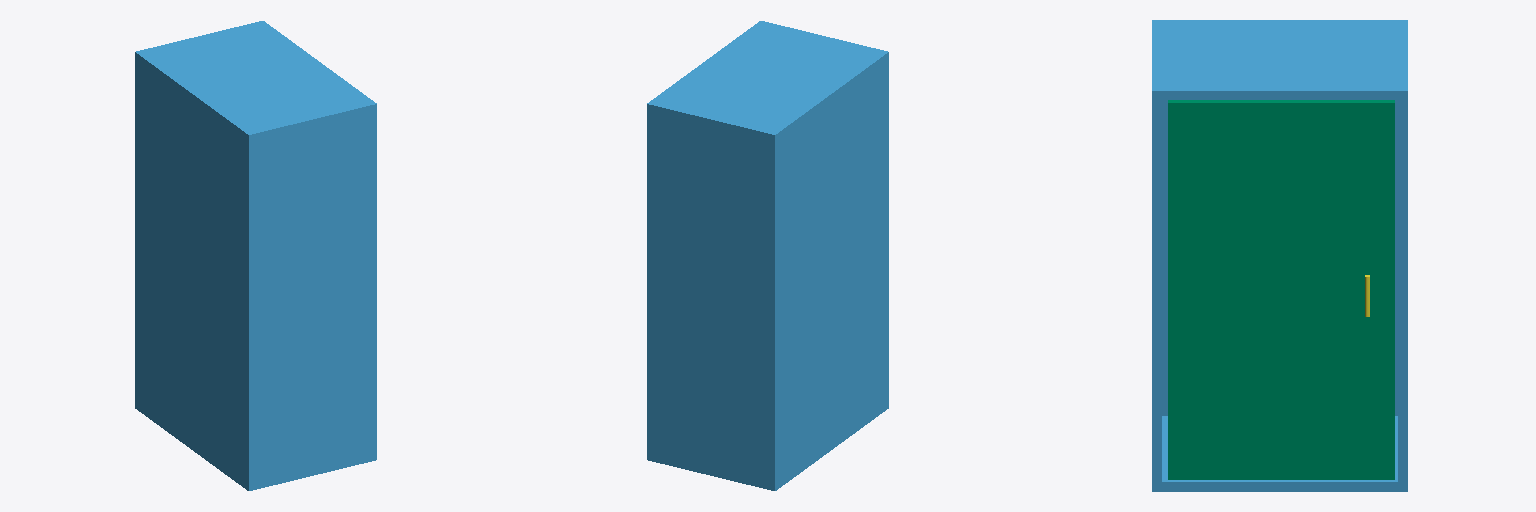
URDF robot description (my_cabinet):
<?xml version="1.0" ?>
<robot name="my_cabinet">
	<link name="world"/>
	<joint name="virtual_joint" type="fixed">
		<parent link="world"/>
		<child link="base_cabinet_link"/>
		<origin xyz="0.0 0.0 0.0" rpy="0.0 0.0 0.0"/>
	</joint>
	<link name="base_cabinet_link">
		<visual>
			<origin xyz="0.0 -0.0025 -0.3887199318023201" rpy="0.0 0.0 0.0"/>
			<geometry>
				<box size="0.3 0.46087347398093087 0.018"/>
			</geometry>
		</visual>
		<collision name="base_cabinet_link_collision_0">
			<origin xyz="0.0 -0.0025 -0.3887199318023201" rpy="0.0 0.0 0.0"/>
			<geometry>
				<box size="0.3 0.46087347398093087 0.018"/>
			</geometry>
		</collision>
		<visual>
			<origin xyz="0.0 0.21893673699046545 0.0" rpy="0.0 0.0 0.0"/>
			<geometry>
				<box size="0.3 0.018 0.7954398636046403"/>
			</geometry>
		</visual>
		<collision name="base_cabinet_link_collision_1">
			<origin xyz="0.0 0.21893673699046545 0.0" rpy="0.0 0.0 0.0"/>
			<geometry>
				<box size="0.3 0.018 0.7954398636046403"/>
			</geometry>
		</collision>
		<visual>
			<origin xyz="0.0 -0.22393673699046546 0.0" rpy="0.0 0.0 0.0"/>
			<geometry>
				<box size="0.3 0.018 0.7954398636046403"/>
			</geometry>
		</visual>
		<collision name="base_cabinet_link_collision_2">
			<origin xyz="0.0 -0.22393673699046546 0.0" rpy="0.0 0.0 0.0"/>
			<geometry>
				<box size="0.3 0.018 0.7954398636046403"/>
			</geometry>
		</collision>
		<visual>
			<origin xyz="0.0 -0.0025 0.3887199318023201" rpy="0.0 0.0 0.0"/>
			<geometry>
				<box size="0.3 0.46087347398093087 0.018"/>
			</geometry>
		</visual>
		<collision name="base_cabinet_link_collision_3">
			<origin xyz="0.0 -0.0025 0.3887199318023201" rpy="0.0 0.0 0.0"/>
			<geometry>
				<box size="0.3 0.46087347398093087 0.018"/>
			</geometry>
		</collision>
		<visual>
			<origin xyz="-0.141 -0.0025 0.0" rpy="0.0 0.0 0.0"/>
			<geometry>
				<box size="0.018 0.46087347398093087 0.7954398636046403"/>
			</geometry>
		</visual>
		<collision name="base_cabinet_link_collision_4">
			<origin xyz="-0.141 -0.0025 0.0" rpy="0.0 0.0 0.0"/>
			<geometry>
				<box size="0.018 0.46087347398093087 0.7954398636046403"/>
			</geometry>
		</collision>
		<inertial>
			<mass value="0.200000"/>
			<inertia ixx="0.014085" ixy="0.0" ixz="0.0" iyy="0.012045" iyz="0.0" izz="0.005040"/>
		</inertial>
	</link>
	<link name="door_link">
		<visual>
			<origin xyz="0.0 -0.20493673699046544 0.0"/>
			<geometry>
				<box size="0.018 0.4098734739809309 0.7494398636046402"/>
			</geometry>
		</visual>
		<collision name="door_link_collision">
			<origin xyz="0.0 -0.20493673699046544 0.0"/>
			<geometry>
				<box size="0.018 0.4098734739809309 0.7494398636046402"/>
			</geometry>
		</collision>
		<inertial>
			<mass value="0.200000"/>
			<inertia ixx="0.012161" ixy="0.0" ixz="0.0" iyy="0.009366" iyz="0.0" izz="0.002805"/>
		</inertial>
	</link>
	<joint name="door_joint" type="revolute">
		<origin xyz="0.141 -0.20493673699046544 0.0" rpy="0.000000 -0.000000 3.141593"/>
		<axis xyz="0 0 1"/>
		<parent link="base_cabinet_link"/>
		<child link="door_link"/>
		<limit effort="50" lower="-1.658062789394613" upper="0" velocity="10"/>
		<dynamics friction="3.5" damping="3.5"/>
	</joint>
	<link name="handle_link">
		<visual>
			<origin xyz="0.0 0.0 0.0" rpy="0.0 0.0 0.0"/>
			<geometry>
				<cylinder length="0.08" radius="0.005"/>
			</geometry>
		</visual>
		<collision name="handle_link_collision_0">
			<origin xyz="0.0 0.0 0.0" rpy="0.0 0.0 0.0"/>
			<geometry>
				<cylinder length="0.08" radius="0.005"/>
			</geometry>
		</collision>
		<visual>
			<origin xyz="-0.01 0.0 0.02" rpy="0.0 1.5707963267948966 0.0"/>
			<geometry>
				<cylinder length="0.02" radius="0.003"/>
			</geometry>
		</visual>
		<collision name="handle_link_collision_1">
			<origin xyz="-0.01 0.0 0.02" rpy="0.0 1.5707963267948966 0.0"/>
			<geometry>
				<cylinder length="0.01" radius="0.003"/>
			</geometry>
		</collision>
		<visual>
			<origin xyz="-0.01 0.0 -0.02" rpy="0.0 1.5707963267948966 0.0"/>
			<geometry>
				<cylinder length="0.02" radius="0.003"/>
			</geometry>
		</visual>
		<collision name="handle_link_collision_2">
			<origin xyz="-0.01 0.0 -0.02" rpy="0.0 1.5707963267948966 0.0"/>
			<geometry>
				<cylinder length="0.02" radius="0.003"/>
			</geometry>
		</collision>
		<inertial>
			<mass value="0.050000"/>
			<inertia ixx="0.000027" ixy="0.0" ixz="0.0" iyy="0.000029" iyz="0.0" izz="0.000003"/>
		</inertial>
	</link>
	<joint name="handle_joint" type="fixed">
		<origin xyz="-0.028999999999999998 -0.3598734739809309 0.0" rpy="0.000000 -0.000000 3.141593"/>
		<parent link="door_link"/>
		<child link="handle_link"/>
	</joint>
	<gazebo reference="base_cabinet_link">
		<sensor name="main_sensor" type="contact">
			<selfCollide>true</selfCollide>
			<alwaysOn>true</alwaysOn>
			<updateRate>5.0</updateRate>
			<material>Gazebo/Red</material>
			<contact>
				<collision>base_cabinet_link_collision_0_collision</collision>
				<collision>base_cabinet_link_collision_1_collision</collision>
				<collision>base_cabinet_link_collision_2_collision</collision>
				<collision>base_cabinet_link_collision_3_collision</collision>
				<collision>base_cabinet_link_collision_4_collision</collision>
			</contact>
			<plugin name="gazebo_ros_bumper_controller" filename="libgazebo_ros_bumper.so">
				<bumperTopicName>/contact</bumperTopicName>
				<frameName>world</frameName>
			</plugin>
		</sensor>
	</gazebo>
	<gazebo reference="door_link">
		<sensor name="main_sensor" type="contact">
			<selfCollide>true</selfCollide>
			<alwaysOn>true</alwaysOn>
			<updateRate>5.0</updateRate>
			<material>Gazebo/Red</material>
			<contact>
				<collision>door_link_collision_collision</collision>
			</contact>
			<plugin name="gazebo_ros_bumper_controller" filename="libgazebo_ros_bumper.so">
				<bumperTopicName>/contact_door</bumperTopicName>
				<frameName>contact_door</frameName>
			</plugin>
		</sensor>
	</gazebo>
	<gazebo reference="door_link">
		<mu>3.0</mu>
		<mu2>3.0</mu2>
		<kp>10000000</kp>
		<kd>100</kd>
	</gazebo>
</robot>

--- Facts derived from the render (not from the file) ---
Views: 3 orthographic renders of the robot side by side, from view 1: azimuth 30°, elevation 25°; view 2: azimuth 150°, elevation 25°; view 3: azimuth 270°, elevation 25°.
Model my_cabinet with 4 links and 3 joints (1 revolute, 2 fixed), rooted at world, posed all joints at 0.
Visible links, largest first — view 1: base_cabinet_link; view 2: base_cabinet_link; view 3: door_link, base_cabinet_link.
Boxes of the visible links, box(x1,y1,x2,y2) form: base_cabinet_link: box(135, 21, 376, 490); base_cabinet_link: box(647, 21, 888, 490); door_link: box(1168, 100, 1394, 479); base_cabinet_link: box(1152, 20, 1407, 491).
Bounding box of the posed robot: 0.325 × 0.4609 × 0.7954 m (x, y, z).
Geometry: primitives only (box / cylinder / sphere), no mesh files.
